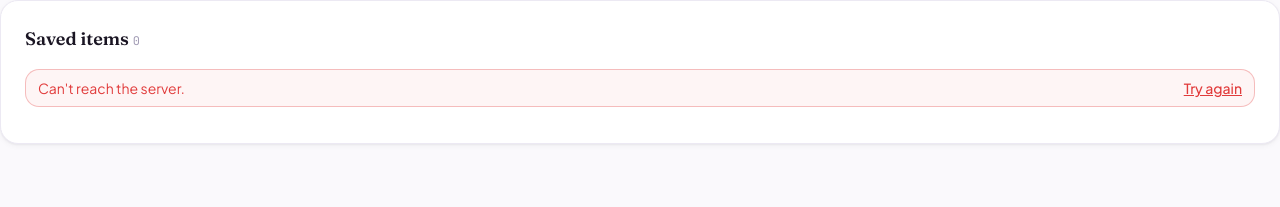
Test: shows a failed load instead of claiming nothing is saved, and can retry
Check: the message shows "Can't reach the server.", box x1=38 y1=79 x2=185 y2=97
Click the button "Try again".
click(1213, 88)  # box x1=1184 y1=78 x2=1242 y2=98
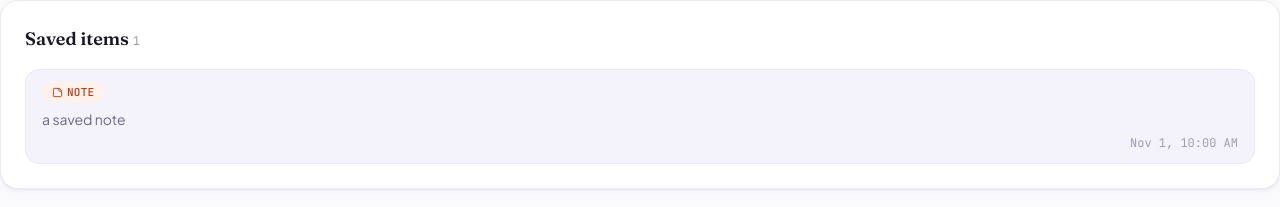
Check: the text "a saved note" is shown, box x1=42 y1=110 x2=126 y2=128
Check: the message "Can't reach the server. Try again" is gone
